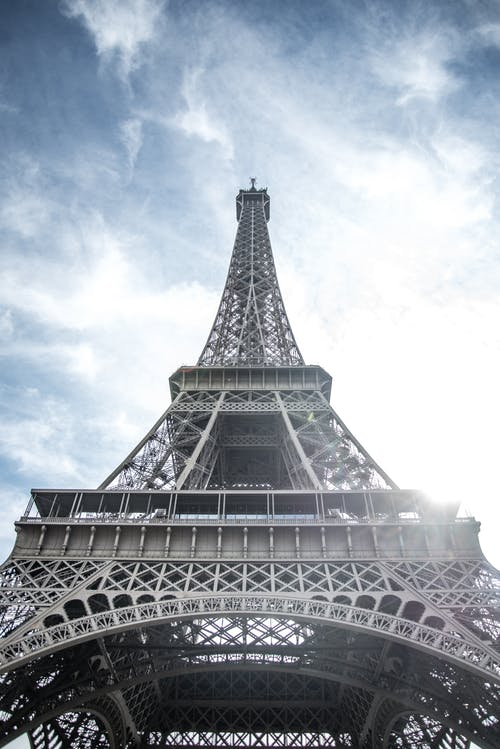eiffel tower: (23, 132, 499, 721)
